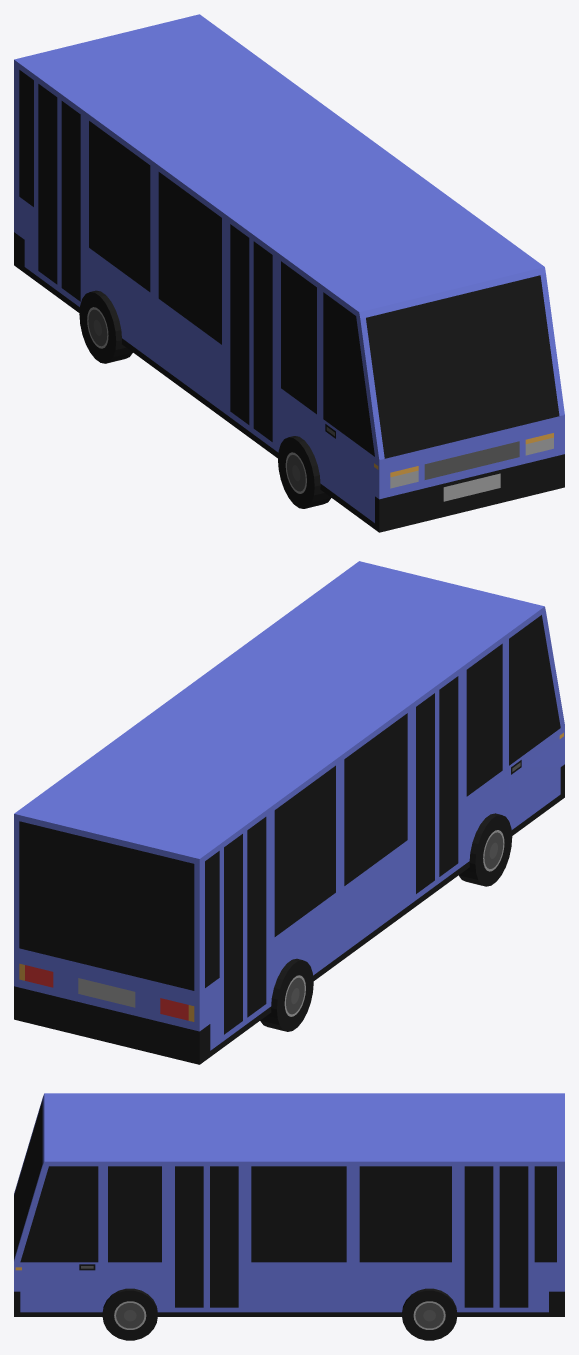
The model's file is SM_Vehicle02.fbx.
3 views of the same model, one above another, from view 1: azimuth 30°, elevation 25°; view 2: azimuth 150°, elevation 25°; view 3: azimuth 270°, elevation 25° (orthographic). The views are drawn at different scales.
Parts seen in each view (by area): view 1: SM_Vehicle02; view 2: SM_Vehicle02; view 3: SM_Vehicle02.
Boxes of the visible parts, box(x1,y1,x2,y2) form: SM_Vehicle02: box(14, 14, 564, 532); SM_Vehicle02: box(14, 561, 564, 1064); SM_Vehicle02: box(14, 1093, 564, 1340).
Size of the model in its own units: 135 by 153 by 433.
